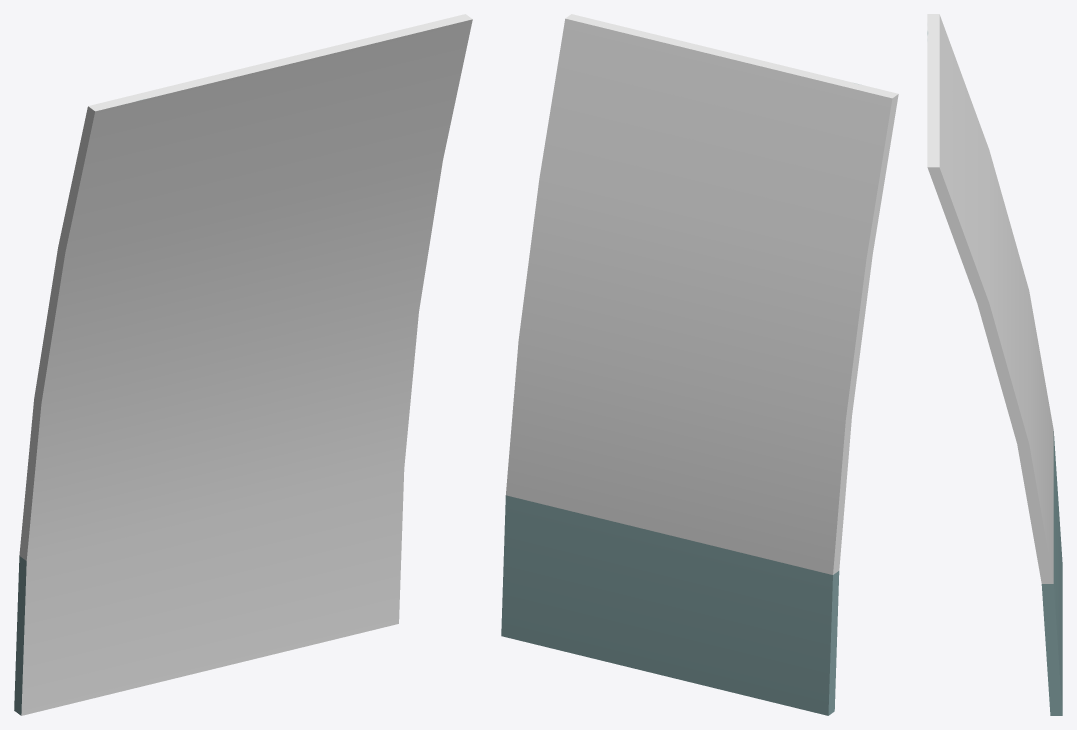
File: wall_3m.fbx
3 views of the same model, side by side, from view 1: azimuth 30°, elevation 25°; view 2: azimuth 150°, elevation 25°; view 3: azimuth 270°, elevation 25° (orthographic). The views are drawn at different scales.
Parts seen in each view (by area): view 1: wall_3m; view 2: wall_3m; view 3: wall_3m.
Boxes of the visible parts, x1,y1,x2,y2 form: wall_3m: [14, 14, 472, 715]; wall_3m: [501, 14, 898, 715]; wall_3m: [927, 14, 1062, 715].
Bounding box in the file's own units: 300 × 500 × 112.
